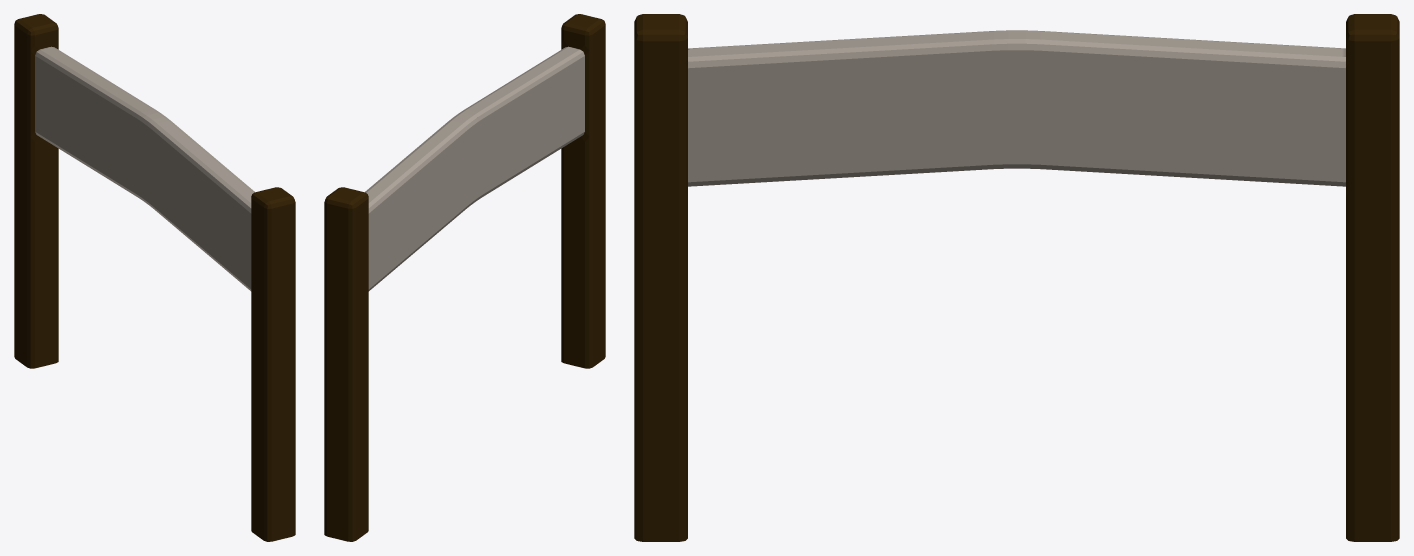
The model's file is MarketPlace.fbx.
3 renders of one model, left to right at view 1: azimuth 30°, elevation 25°; view 2: azimuth 150°, elevation 25°; view 3: azimuth 270°, elevation 25°, orthographic. The views are drawn at different scales.
Parts seen in each view (by area): view 1: Cube.058; view 2: Cube.058; view 3: Cube.058.
Boxes of the visible parts, <box> form: Cube.058: <box>14,14,295,541</box>; Cube.058: <box>324,14,605,541</box>; Cube.058: <box>634,14,1399,541</box>.
Size of the model in its own units: 306 by 3189 by 4350.
1 material, 1 textured.
